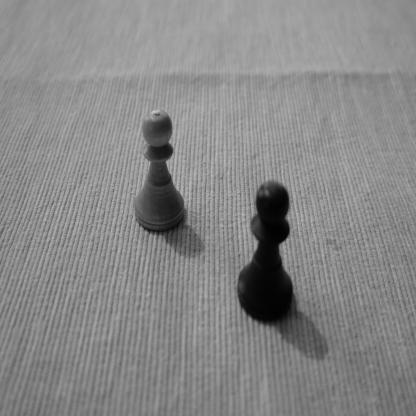black-pawn: (236, 178, 294, 324)
white-pawn: (133, 108, 186, 233)
